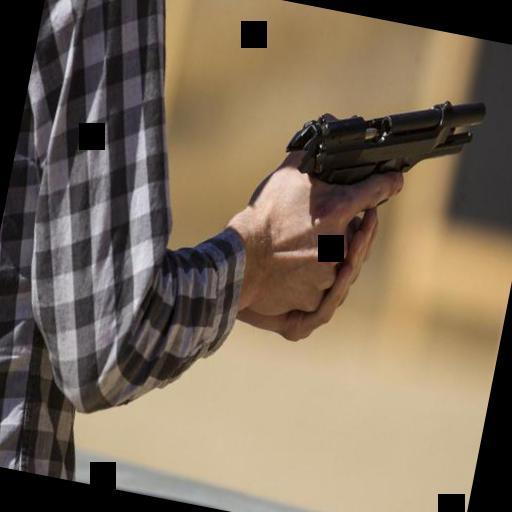Handgun: (280, 64, 488, 208)
